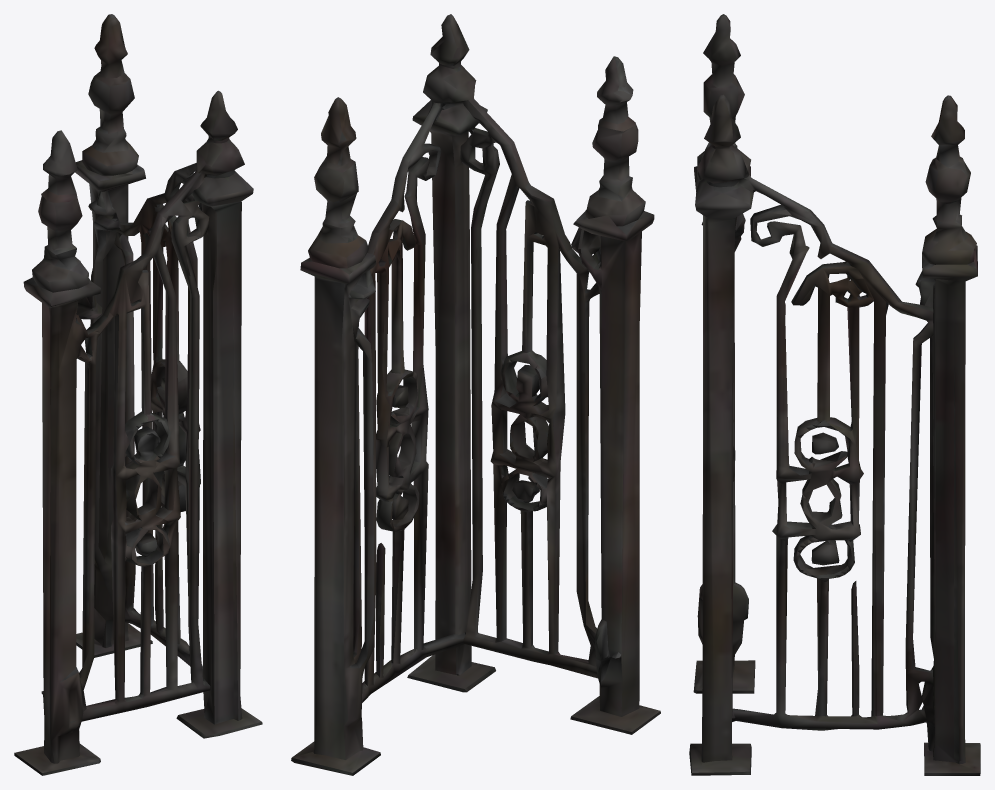
File: weathered-iron-iron-gate-v004.glb
The picture shows the model from 3 angles, left to right: view 1: azimuth 30°, elevation 25°; view 2: azimuth 150°, elevation 25°; view 3: azimuth 270°, elevation 25°; orthographic projection. The views are drawn at different scales.
Parts seen in each view (by area): view 1: weathered-iron-iron-gate; view 2: weathered-iron-iron-gate; view 3: weathered-iron-iron-gate.
Part boxes in pixels (bbox=[...]): weathered-iron-iron-gate: bbox=[14, 14, 262, 775]; weathered-iron-iron-gate: bbox=[291, 14, 660, 775]; weathered-iron-iron-gate: bbox=[689, 14, 980, 775].
Bounding box in the file's own units: 0.9664 × 2.67 × 1.05.
Materials: 1 (1 with a texture image).
